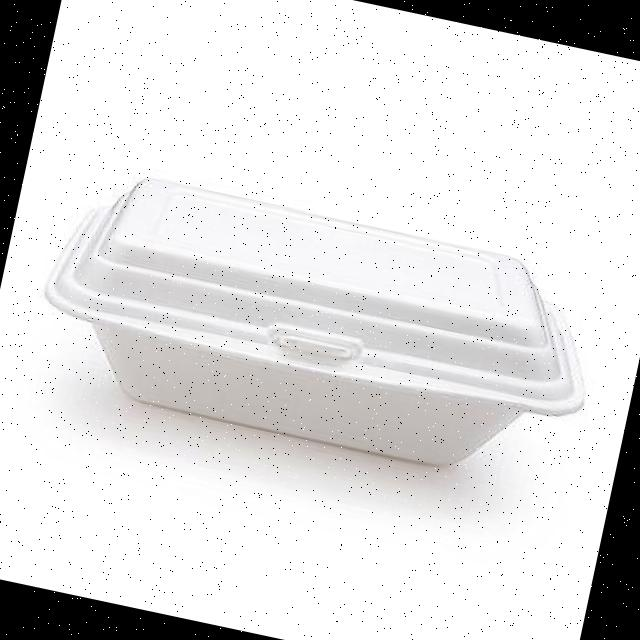styrofoam: (22, 156, 612, 497)
